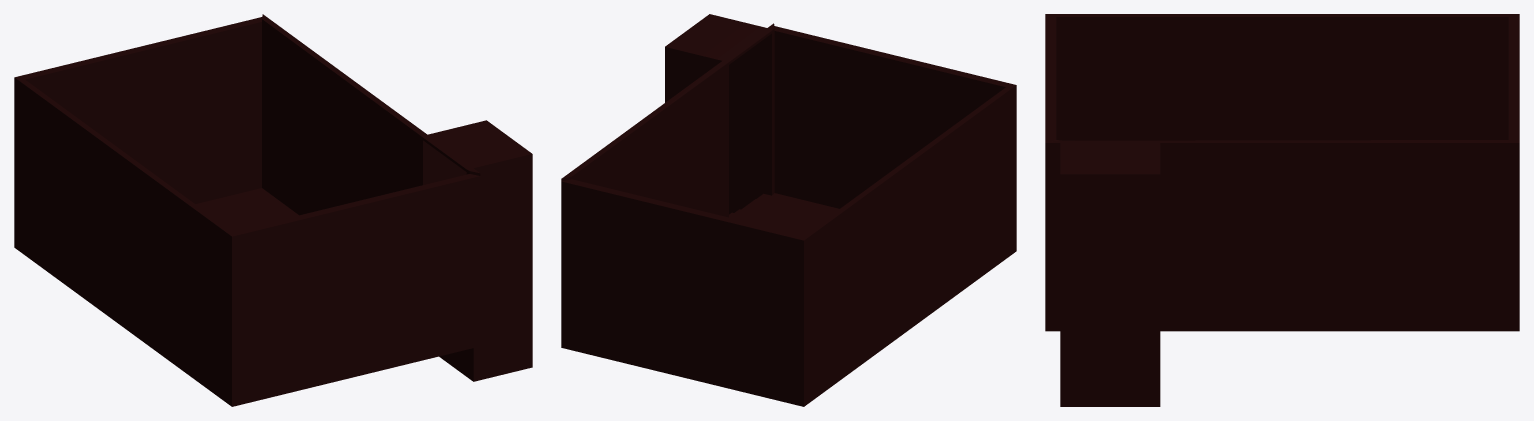
File: TopFloor.fbx
The picture shows the model from 3 angles, left to right: view 1: azimuth 30°, elevation 25°; view 2: azimuth 150°, elevation 25°; view 3: azimuth 270°, elevation 25°; orthographic projection. The views are drawn at different scales.
Visible parts, largest first — view 1: Box032; view 2: Box032; view 3: Box032.
Part boxes in pixels (x1,y1,x2,y2): Box032: (14, 14, 532, 406); Box032: (561, 14, 1016, 406); Box032: (1045, 14, 1519, 406).
Size of the model in its own units: 563 by 374 by 691.
